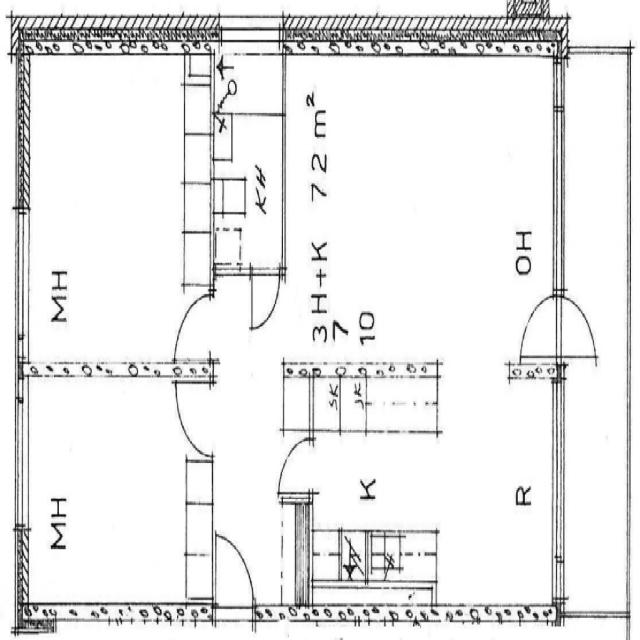door: (212, 526, 257, 620), (174, 376, 216, 461), (173, 286, 213, 366), (518, 290, 559, 363), (558, 291, 598, 364), (276, 430, 316, 502), (247, 261, 282, 334)
window: (547, 85, 572, 298), (548, 381, 570, 574), (9, 205, 35, 360), (10, 386, 35, 537)
zone: (21, 51, 194, 364), (20, 373, 216, 614), (211, 43, 285, 272), (310, 372, 341, 438)
